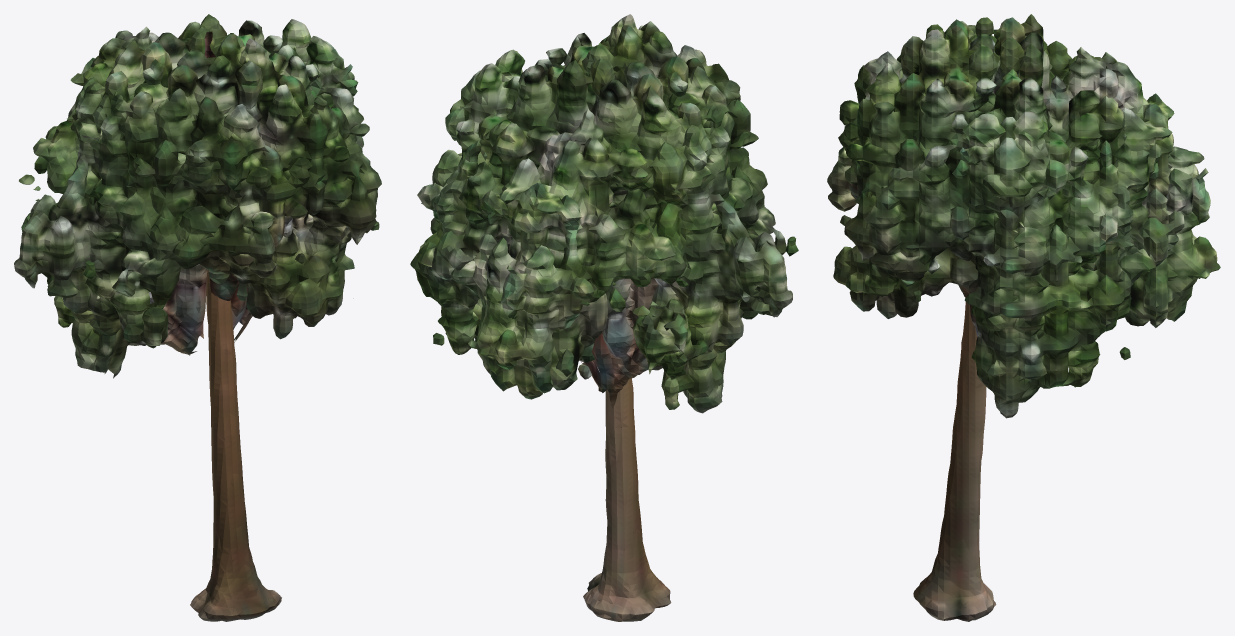
Rendered from tall_tree_upsized.glb.
The picture shows the model from 3 angles, left to right: view 1: azimuth 30°, elevation 25°; view 2: azimuth 150°, elevation 25°; view 3: azimuth 270°, elevation 25°; orthographic projection.
Visible parts, largest first — view 1: tree; view 2: tree; view 3: tree.
Part boxes in pixels (<box>): tree: <box>14,14,381,621</box>; tree: <box>410,14,798,621</box>; tree: <box>827,14,1220,621</box>.
Bounding box in the file's own units: 12.53 × 20 × 12.23.
1 material, 1 textured.
